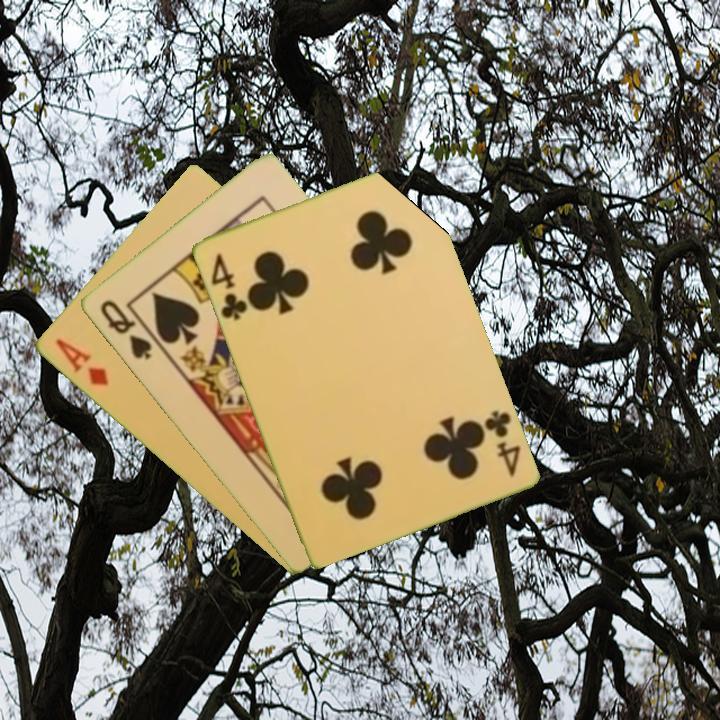4c: (480, 406, 524, 480), (206, 250, 250, 323)
Ad: (51, 335, 111, 389)
Qs: (96, 296, 155, 363)
